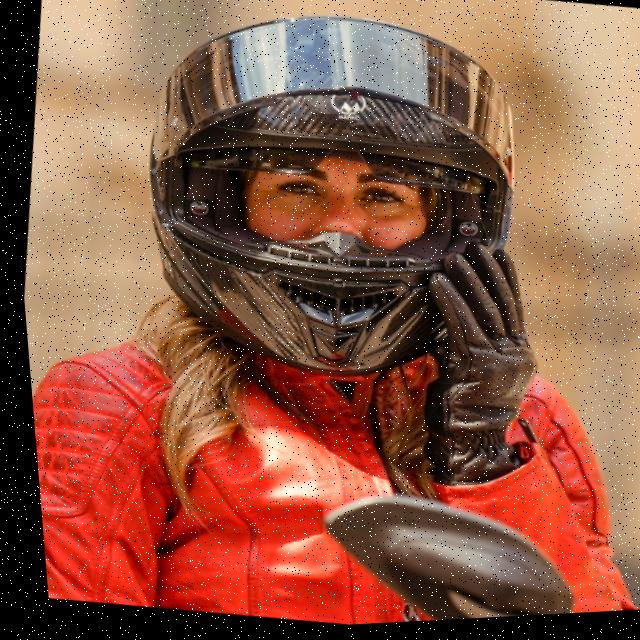helmet: (93, 0, 560, 420)
